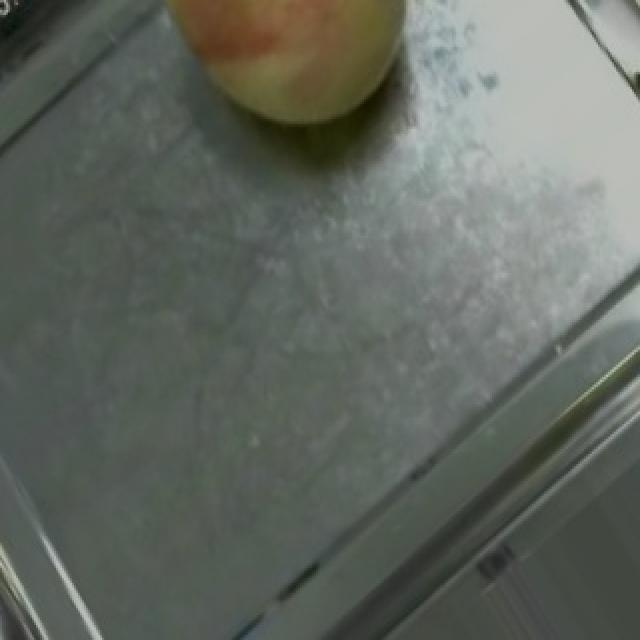Fruit: (122, 0, 448, 164)
